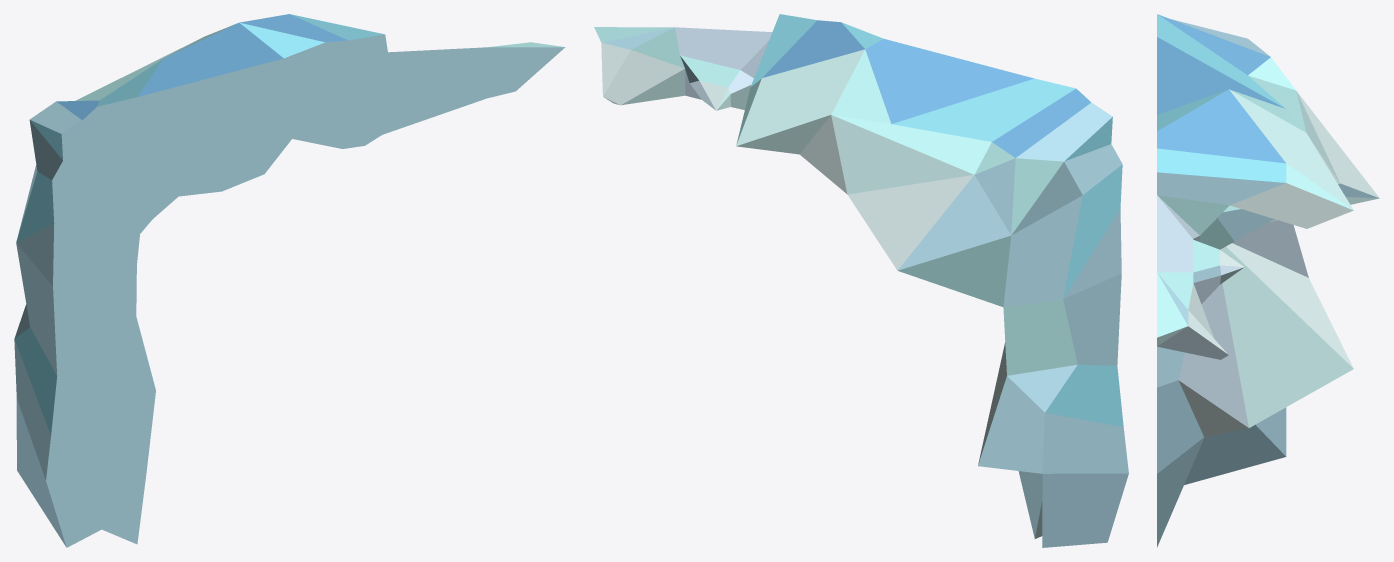
File: winter_mountain_1.fbx
3 renders of one model, left to right at view 1: azimuth 30°, elevation 25°; view 2: azimuth 150°, elevation 25°; view 3: azimuth 270°, elevation 25°, orthographic. The views are drawn at different scales.
Parts seen in each view (by area): view 1: winter_mountain_1; view 2: winter_mountain_1; view 3: winter_mountain_1.
Boxes of the visible parts, x1,y1,x2,y2 form: winter_mountain_1: [14, 14, 565, 547]; winter_mountain_1: [594, 14, 1128, 547]; winter_mountain_1: [1157, 14, 1379, 547].
Size of the model in its own units: 1058 by 907 by 344.
